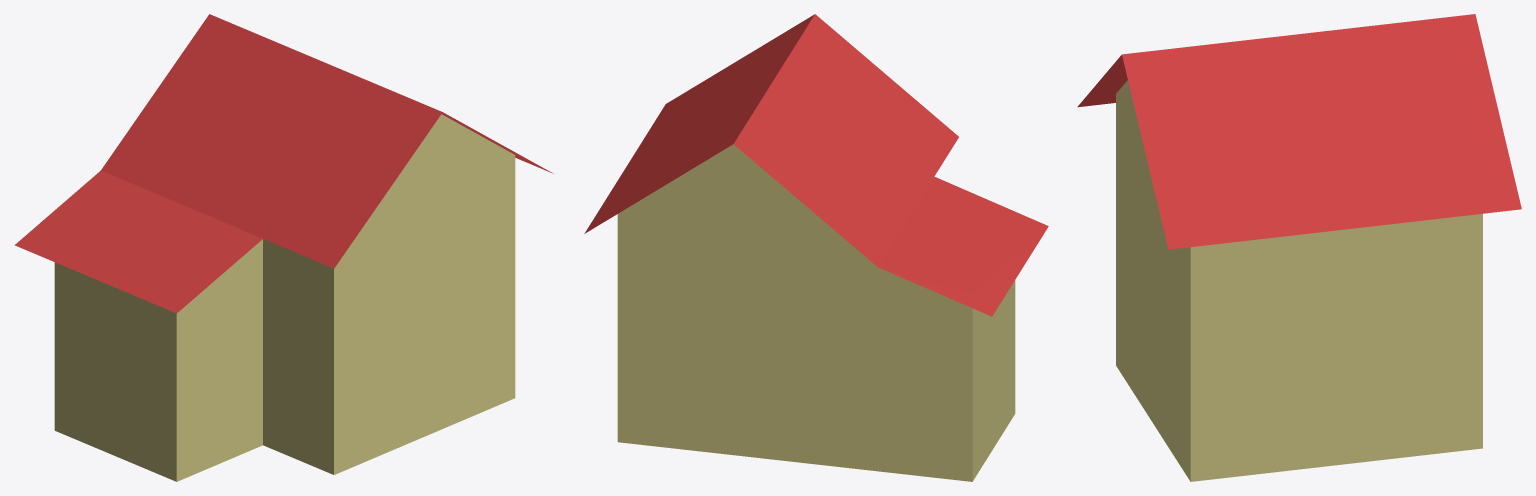
3 views of the same model, side by side, from view 1: azimuth 30°, elevation 25°; view 2: azimuth 150°, elevation 25°; view 3: azimuth 270°, elevation 25° (orthographic). The views are drawn at different scales.
Size of the model in its own units: 13.36 by 10.53 by 9.7.
